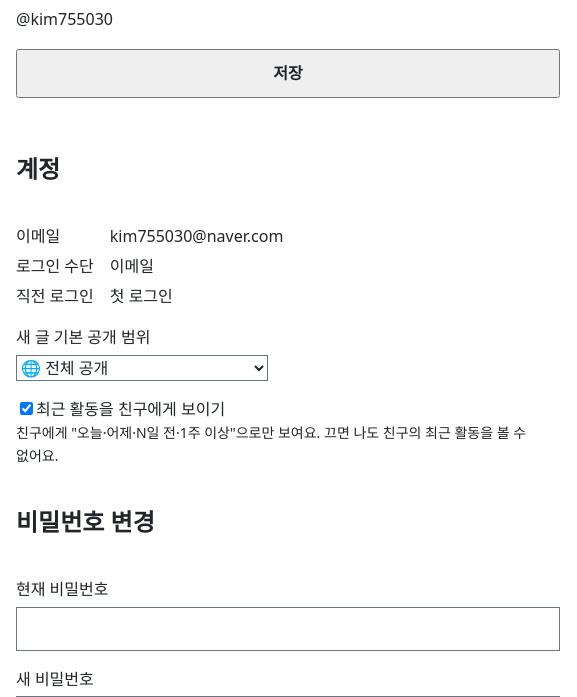
Scenario: SettingsPage (FR-046~053) › 기본 공개 범위 선택지는 004 VisibilitySelect(visibilityOptions)에서 오고, 저장이 거부되면 이전 값으로 돌아간다
This screenshot has width=577, height=697.
(page scrolled)
Select "🔒 나만 보기" in the dropdown labelled "새 글 기본 공개 범위" at {"x": 142, "y": 368}, box [16,355,268,381]
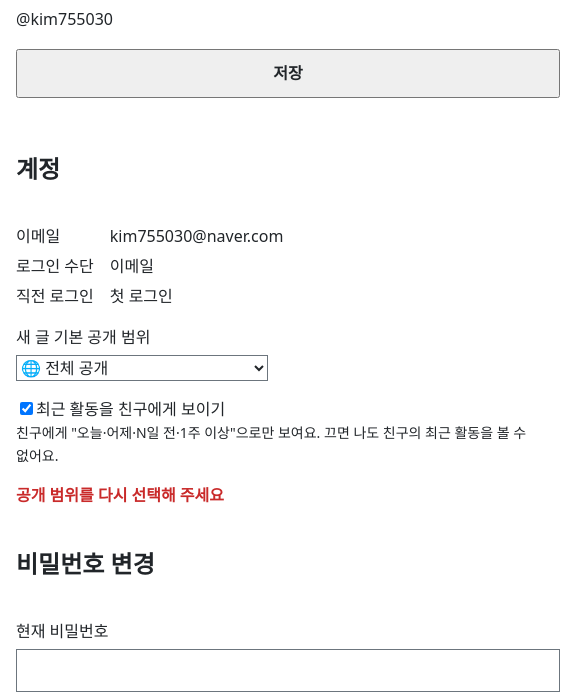
Expected: the text "공개 범위를 다시 선택해 주세요" is shown, [16,484,224,506]
